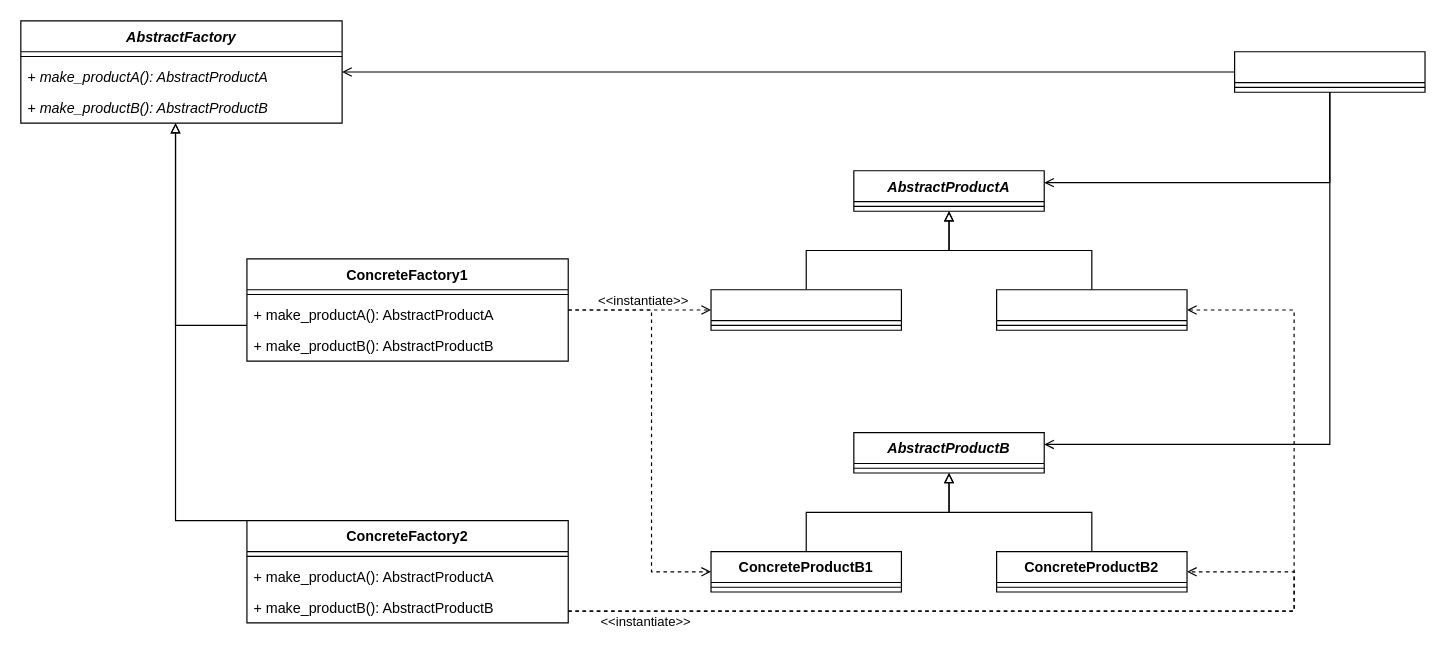
This 1446x650 diagram has some shape labels left out. The shapes that lost their labels are listed below. From the top down, each one's centre as x and y in pixels, then its label:
pixel 1329 71: Client
pixel 805 309: ConcreteProductA1
pixel 1091 309: ConcreteProductA2
